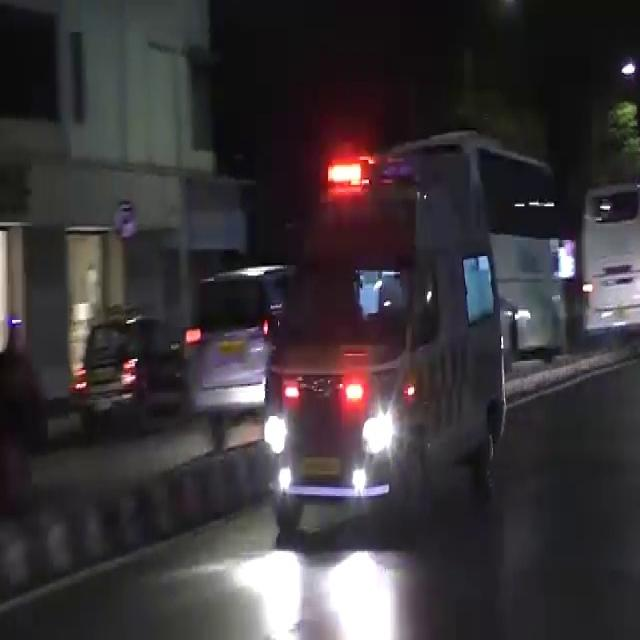ambulance: (266, 145, 512, 519)
